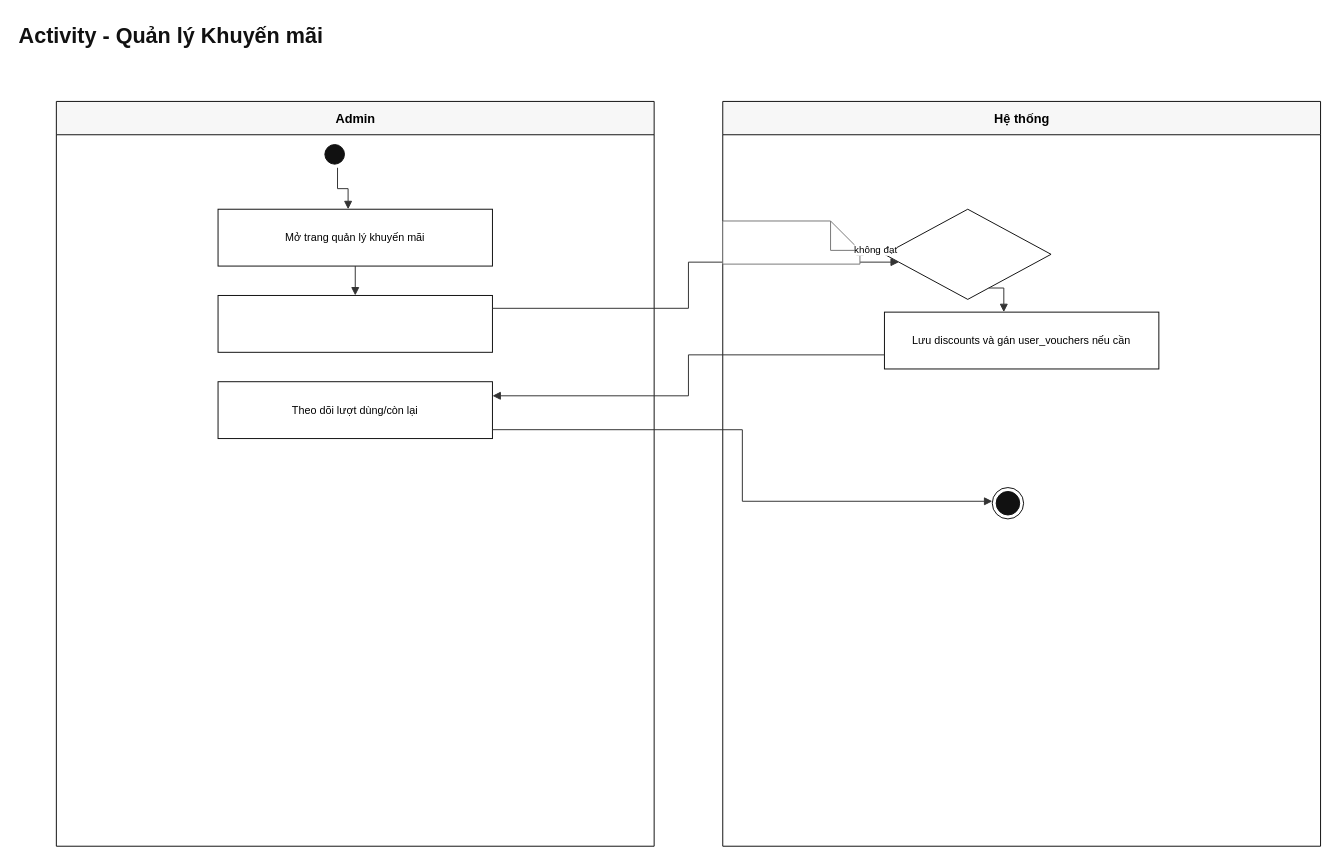
This 1338x863 diagram has some shape labels left out. The centre of each missing label's shape, as x and y in pixels:
Nhánh lỗi / ngoại lệ: the point at 791,242
Tạo mã, điều kiện, đối tượng, giới hạn lượt dùng: the point at 354,323
Validate trùng code và điều kiện áp dụng: the point at 967,253
